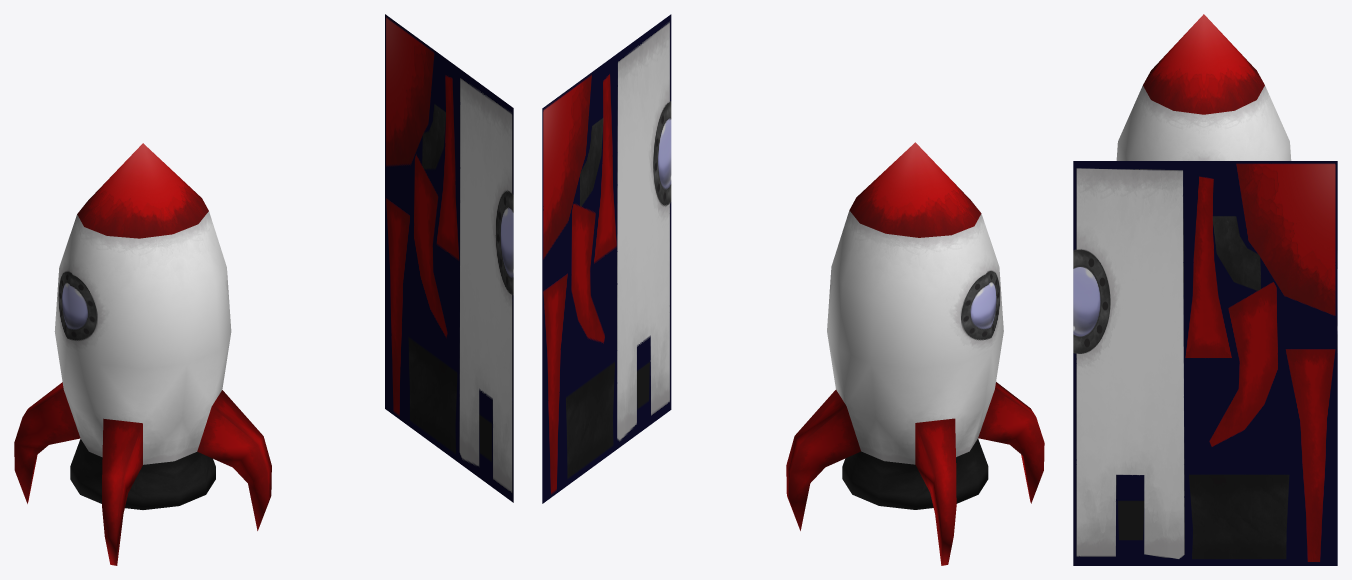
File: cohet.FBX
3 views of the same model, side by side, from view 1: azimuth 30°, elevation 25°; view 2: azimuth 150°, elevation 25°; view 3: azimuth 270°, elevation 25° (orthographic). The views are drawn at different scales.
Visible parts, largest first — view 1: Sphere002, Plane001; view 2: Sphere002, Plane001; view 3: Plane001, Sphere002.
Part boxes in pixels (bbox=[...]): Sphere002: bbox=[14, 143, 271, 565]; Plane001: bbox=[385, 14, 513, 502]; Sphere002: bbox=[786, 142, 1044, 565]; Plane001: bbox=[542, 14, 671, 503]; Plane001: bbox=[1073, 161, 1337, 565]; Sphere002: bbox=[1116, 14, 1291, 160].
Size of the model in its own units: 663 by 638 by 377.
